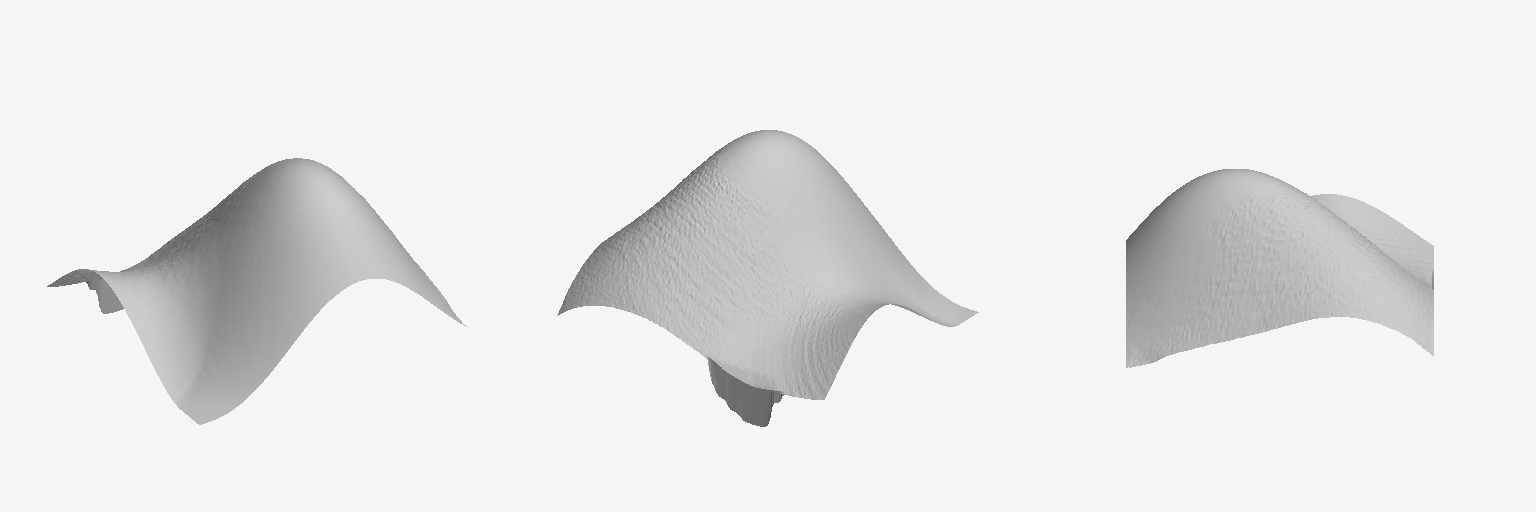
Rendered from SM_Terrain_Tuto2Chunk0.0.obj.
The picture shows the model from 3 angles: view 1: azimuth 30°, elevation 25°; view 2: azimuth 150°, elevation 25°; view 3: azimuth 270°, elevation 25°; orthographic projection.
Bounding box in the file's own units: 100 × 69.46 × 100.